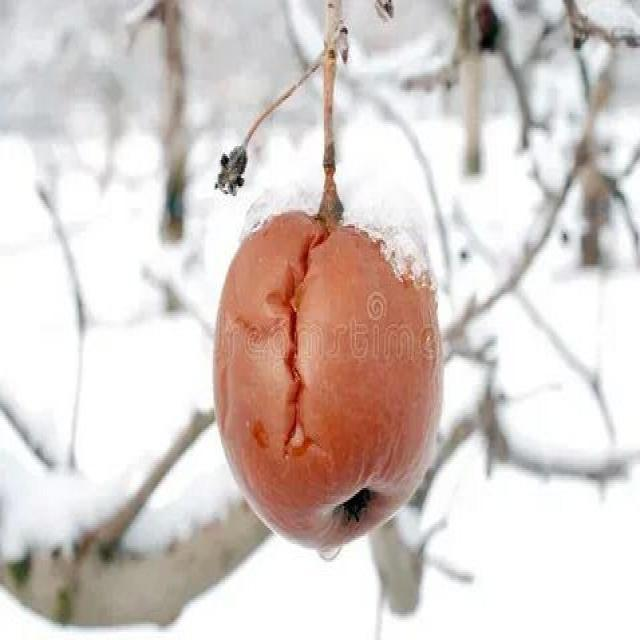Rotten: (194, 208, 450, 550)
